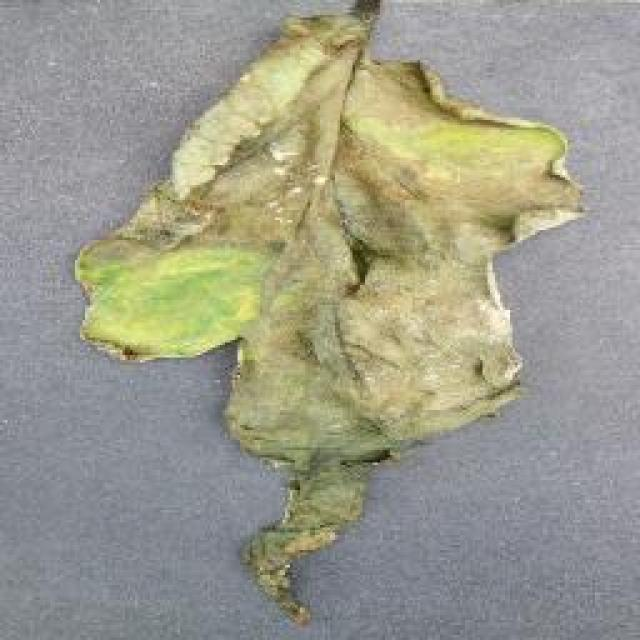Tomato late blight leaf: (75, 12, 582, 626)
